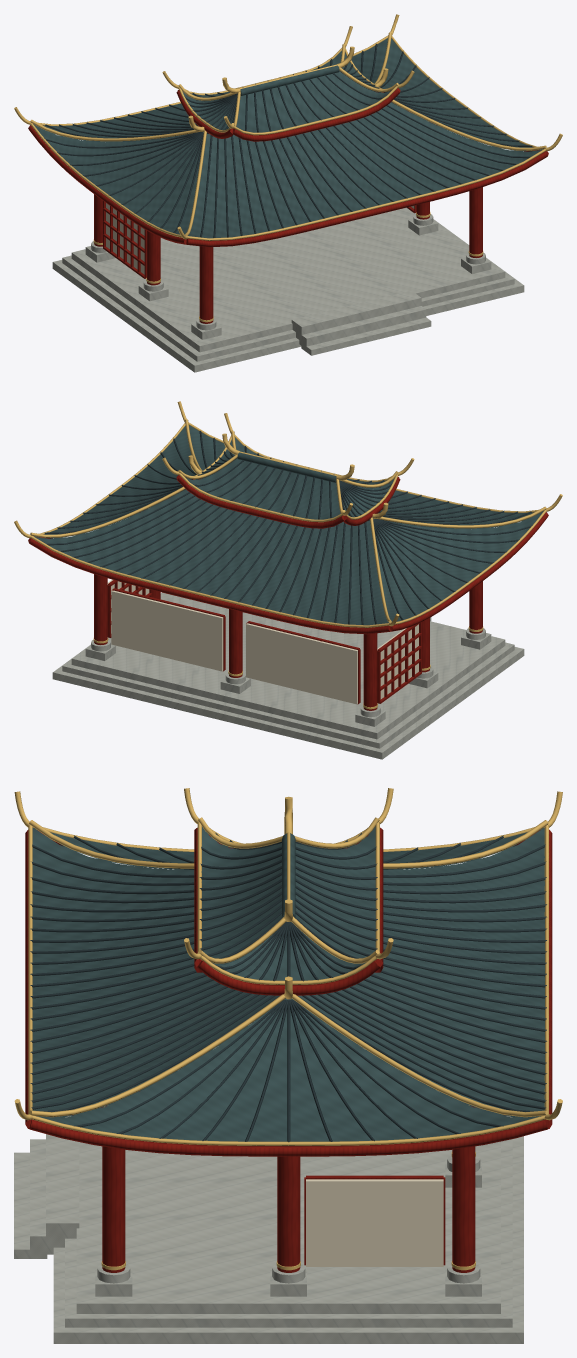
The model's file is pavilion.glb.
3 views of the same model, one above another, from view 1: azimuth 30°, elevation 25°; view 2: azimuth 150°, elevation 25°; view 3: azimuth 270°, elevation 25° (orthographic). The views are drawn at different scales.
Visible parts, largest first — view 1: pavilion_Temple_Charcoal_Glazed_Tiles, pavilion_Temple_Worn_Pale_Stone, pavilion_Temple_Dark_Ridge_and_Iron, pavilion_Temple_Red_Timber, pavilion_Temple_Antique_Gold, pavilion_Temple_Warm_Paper; view 2: pavilion_Temple_Charcoal_Glazed_Tiles, pavilion_Temple_Worn_Pale_Stone, pavilion_Temple_Dark_Ridge_and_Iron, pavilion_Temple_Warm_Paper, pavilion_Temple_Red_Timber, pavilion_Temple_Antique_Gold; view 3: pavilion_Temple_Charcoal_Glazed_Tiles, pavilion_Temple_Worn_Pale_Stone, pavilion_Temple_Dark_Ridge_and_Iron, pavilion_Temple_Red_Timber, pavilion_Temple_Antique_Gold, pavilion_Temple_Warm_Paper.
Boxes of the visible parts, <box> form: pavilion_Temple_Charcoal_Glazed_Tiles: <box>33,38,542,238</box>; pavilion_Temple_Worn_Pale_Stone: <box>52,207,524,372</box>; pavilion_Temple_Dark_Ridge_and_Iron: <box>44,43,532,237</box>; pavilion_Temple_Red_Timber: <box>28,88,548,323</box>; pavilion_Temple_Antique_Gold: <box>14,14,562,322</box>; pavilion_Temple_Warm_Paper: <box>106,203,414,274</box>; pavilion_Temple_Charcoal_Glazed_Tiles: <box>34,425,543,625</box>; pavilion_Temple_Worn_Pale_Stone: <box>52,592,524,759</box>; pavilion_Temple_Dark_Ridge_and_Iron: <box>44,430,532,624</box>; pavilion_Temple_Warm_Paper: <box>107,579,418,704</box>; pavilion_Temple_Red_Timber: <box>28,475,548,710</box>; pavilion_Temple_Antique_Gold: <box>14,401,562,709</box>; pavilion_Temple_Charcoal_Glazed_Tiles: <box>32,826,544,1141</box>; pavilion_Temple_Worn_Pale_Stone: <box>14,1070,523,1343</box>; pavilion_Temple_Dark_Ridge_and_Iron: <box>30,832,546,1142</box>; pavilion_Temple_Red_Timber: <box>25,827,552,1272</box>; pavilion_Temple_Antique_Gold: <box>14,788,562,1270</box>; pavilion_Temple_Warm_Paper: <box>306,1179,443,1266</box>.
Size of the model in its own units: 12.85 by 6.95 by 9.57.
6 materials, 3 textured.
